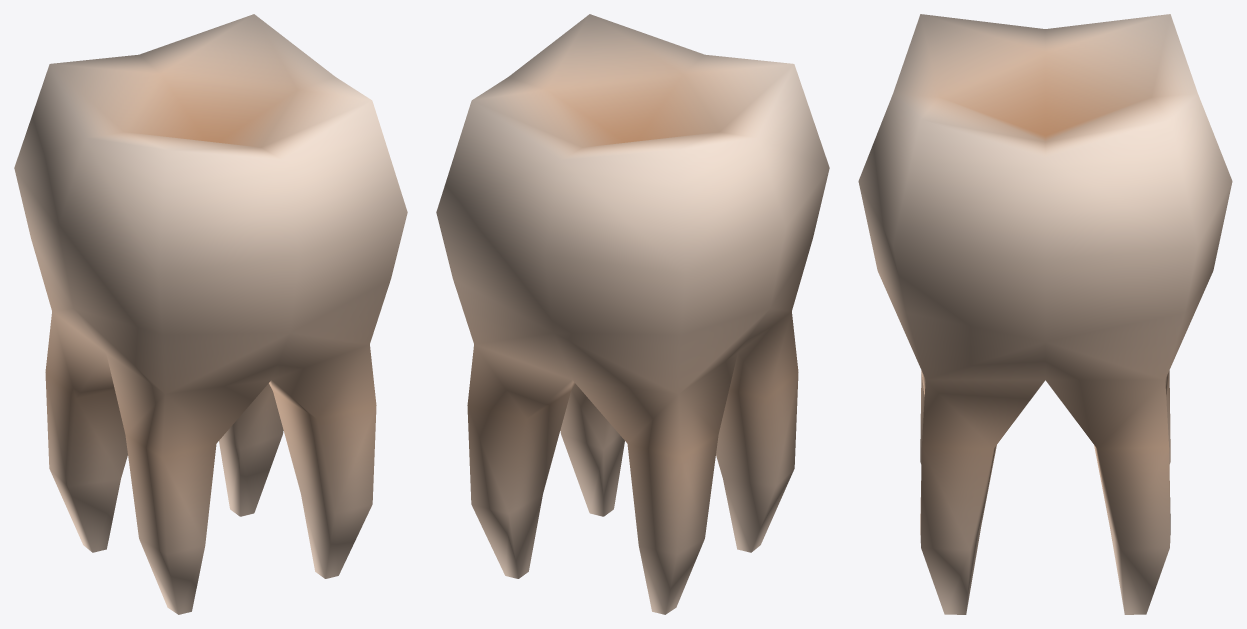
The model's file is HumanTooth.fbx.
3 renders of one model, left to right at view 1: azimuth 30°, elevation 25°; view 2: azimuth 150°, elevation 25°; view 3: azimuth 270°, elevation 25°, orthographic. The views are drawn at different scales.
Parts seen in each view (by area): view 1: HumanTooth; view 2: HumanTooth; view 3: HumanTooth.
Boxes of the visible parts, bbox=[...] form: HumanTooth: bbox=[14, 14, 407, 614]; HumanTooth: bbox=[436, 14, 829, 614]; HumanTooth: bbox=[858, 14, 1232, 614].
Size of the model in its own units: 2.14 by 3.2 by 2.14.
